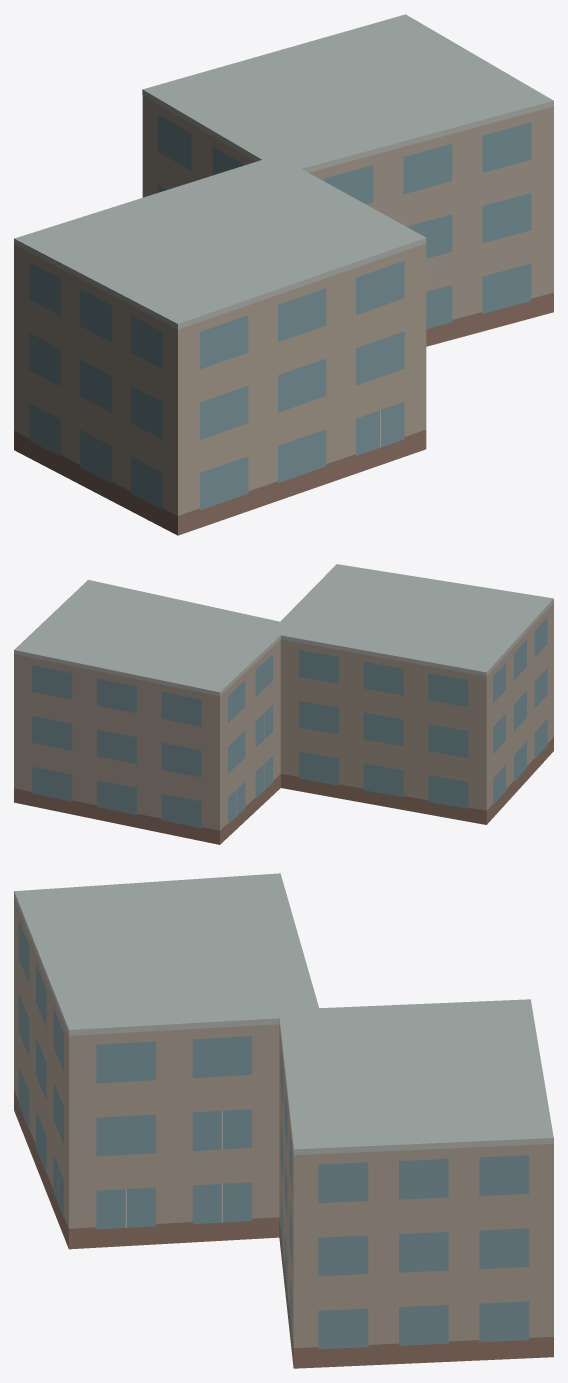
File: survey-upis-32610867.glb
The picture shows the model from 3 angles, top to bottom: view 1: azimuth 30°, elevation 25°; view 2: azimuth 150°, elevation 25°; view 3: azimuth 270°, elevation 25°; orthographic projection. The views are drawn at different scales.
Parts seen in each view (by area): view 1: survey-upis-32610867.tmp; view 2: survey-upis-32610867.tmp; view 3: survey-upis-32610867.tmp.
Boxes of the visible parts, <box> form: survey-upis-32610867.tmp: <box>14,14,553,535</box>; survey-upis-32610867.tmp: <box>14,564,553,844</box>; survey-upis-32610867.tmp: <box>14,873,553,1368</box>.
Size of the model in its own units: 24.73 by 9.15 by 20.43.
